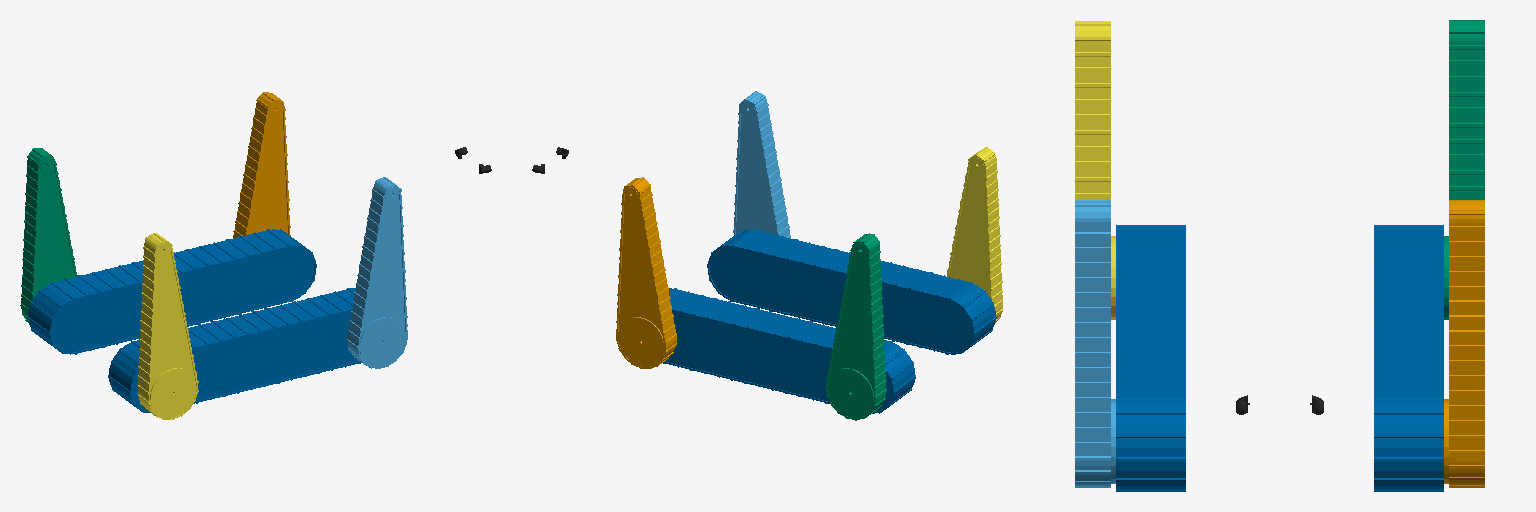
The robot description file, URDF, robot "iai_donkey":
<?xml version="1.0" ?>
<!-- =================================================================================== -->
<!-- |    This document was autogenerated by xacro from donkey.gazebo.urdf.xacro       | -->
<!-- |    EDITING THIS FILE BY HAND IS NOT RECOMMENDED                                 | -->
<!-- =================================================================================== -->
<robot name="iai_donkey" xmlns:xacro="http://ros.org/wiki/xacro">
  <link name="chains_loose_front_left">
    <visual>
      <geometry>
        <mesh filename="package://iai_sherpa_donkey/meshes/Loose_Wheel.dae"/>
      </geometry>
    </visual>
    <collision>
      <geometry>
        <mesh filename="package://iai_sherpa_donkey/meshes/Loose_Wheel_Col.dae"/>
      </geometry>
    </collision>
    <inertial>
      <origin rpy="0 0 0" xyz="0 0 0"/>
      <mass value="0.5"/>
      <inertia ixx="0.0001" ixy="0.0" ixz="0.0" iyy="0.0001" iyz="0.0" izz="0.0001"/>
    </inertial>
  </link>
  <joint name="chains_joint_front_left" type="revolute">
    <parent link="base_link"/>
    <child link="chains_loose_front_left"/>
    <origin rpy="3.14159393311 0 0" xyz="0.696425437927 0.503306388855 -0.26314997673"/>
    <limit effort="-1" lower="1." upper="2." velocity="-1"/>
    <axis xyz="0 1 0"/>
  </joint>
  <transmission name="chain_trans_front_left">
    <type>position_controllers/JointTrajectoryController</type>
    <joint name="chains_joint_front_left">
      <hardwareInterface>PositionJointInterface</hardwareInterface>
    </joint>
    <actuator name="chain_motor_front_left">
      <hardwareInterface>PositionJointInterface</hardwareInterface>
      <mechanicalReduction>10</mechanicalReduction>
    </actuator>
  </transmission>
  <link name="chains_loose_front_right">
    <visual>
      <geometry>
        <mesh filename="package://iai_sherpa_donkey/meshes/Loose_Wheel.dae"/>
      </geometry>
    </visual>
    <collision>
      <geometry>
        <mesh filename="package://iai_sherpa_donkey/meshes/Loose_Wheel_Col.dae"/>
      </geometry>
    </collision>
    <inertial>
      <origin rpy="0 0 0" xyz="0 0 0"/>
      <mass value="0.5"/>
      <inertia ixx="0.0001" ixy="0.0" ixz="0.0" iyy="0.0001" iyz="0.0" izz="0.0001"/>
    </inertial>
  </link>
  <joint name="chains_joint_front_right" type="revolute">
    <parent link="base_link"/>
    <child link="chains_loose_front_right"/>
    <origin rpy="0.0 0.0 0.0" xyz="0.696425437927 -0.503306388855 -0.26314997673"/>
    <limit effort="-1" lower="1." upper="2." velocity="-1"/>
    <axis xyz="0 -1 0"/>
  </joint>
  <transmission name="chain_trans_front_right">
    <type>position_controllers/JointTrajectoryController</type>
    <joint name="chains_joint_front_right">
      <hardwareInterface>PositionJointInterface</hardwareInterface>
    </joint>
    <actuator name="chain_motor_front_right">
      <hardwareInterface>PositionJointInterface</hardwareInterface>
      <mechanicalReduction>10</mechanicalReduction>
    </actuator>
  </transmission>
  <link name="chains_loose_back_left">
    <visual>
      <geometry>
        <mesh filename="package://iai_sherpa_donkey/meshes/Loose_Wheel.dae"/>
      </geometry>
    </visual>
    <collision>
      <geometry>
        <mesh filename="package://iai_sherpa_donkey/meshes/Loose_Wheel_Col.dae"/>
      </geometry>
    </collision>
    <inertial>
      <origin rpy="0 0 0" xyz="0 0 0"/>
      <mass value="0.5"/>
      <inertia ixx="0.0001" ixy="0.0" ixz="0.0" iyy="0.0001" iyz="0.0" izz="0.0001"/>
    </inertial>
  </link>
  <joint name="chains_joint_back_left" type="revolute">
    <parent link="base_link"/>
    <child link="chains_loose_back_left"/>
    <origin rpy="3.14159393311 3.14159393311 0.0" xyz="-0.348821163177 0.503306388855 -0.26314997673"/>
    <limit effort="-1" lower="1." upper="2." velocity="-1"/>
    <axis xyz="0 -1 0"/>
  </joint>
  <transmission name="chain_trans_back_left">
    <type>position_controllers/JointTrajectoryController</type>
    <joint name="chains_joint_back_left">
      <hardwareInterface>PositionJointInterface</hardwareInterface>
    </joint>
    <actuator name="chain_motor_back_left">
      <hardwareInterface>PositionJointInterface</hardwareInterface>
      <mechanicalReduction>10</mechanicalReduction>
    </actuator>
  </transmission>
  <link name="chains_loose_back_right">
    <visual>
      <geometry>
        <mesh filename="package://iai_sherpa_donkey/meshes/Loose_Wheel.dae"/>
      </geometry>
    </visual>
    <collision>
      <geometry>
        <mesh filename="package://iai_sherpa_donkey/meshes/Loose_Wheel_Col.dae"/>
      </geometry>
    </collision>
    <inertial>
      <origin rpy="0 0 0" xyz="0 0 0"/>
      <mass value="0.5"/>
      <inertia ixx="0.0001" ixy="0.0" ixz="0.0" iyy="0.0001" iyz="0.0" izz="0.0001"/>
    </inertial>
  </link>
  <joint name="chains_joint_back_right" type="revolute">
    <parent link="base_link"/>
    <child link="chains_loose_back_right"/>
    <origin rpy="0.0 3.14159393311 0.0" xyz="-0.348821163177 -0.503306388855 -0.26314997673"/>
    <limit effort="-1" lower="1." upper="2." velocity="-1"/>
    <axis xyz="0 1 0"/>
  </joint>
  <transmission name="chain_trans_back_right">
    <type>position_controllers/JointTrajectoryController</type>
    <joint name="chains_joint_back_right">
      <hardwareInterface>PositionJointInterface</hardwareInterface>
    </joint>
    <actuator name="chain_motor_back_right">
      <hardwareInterface>PositionJointInterface</hardwareInterface>
      <mechanicalReduction>10</mechanicalReduction>
    </actuator>
  </transmission>
  <link name="base_link">
    <!--MAIN_BODY-->
    <visual>
      <origin rpy="0 0 0" xyz="0 0 0"/>
      <geometry>
        <mesh filename="package://iai_sherpa_donkey/meshes/Body_Full.dae"/>
      </geometry>
    </visual>
    <collision>
      <origin rpy="0 0 0" xyz="0 0 0"/>
      <geometry>
        <mesh filename="package://iai_sherpa_donkey/meshes/body_full_col.stl"/>
      </geometry>
    </collision>
    <!--LEFT_CHAINS-->
    <visual>
      <origin rpy="0 0 0" xyz="0.16442573070526123 0.3477001190185547 -0.2631499767303467"/>
      <geometry>
        <mesh filename="package://iai_sherpa_donkey/meshes/Main_Wheel.dae"/>
      </geometry>
    </visual>
    <visual>
      <origin rpy="0 0 0" xyz="0.16442573070526123 -0.3477001190185547 -0.2631499767303467"/>
      <geometry>
        <mesh filename="package://iai_sherpa_donkey/meshes/Main_Wheel.dae"/>
      </geometry>
    </visual>
    <!--
	
	
        <visual>
        <origin xyz="0.16442573070526123 0.3477001190185547 -0.2631499767303467" rpy="0 0 0" />
        <geometry>
            <mesh filename="package://iai_sherpa_donkey/meshes/Main_Wheel.dae"/>
        </geometry>
        </visual>
        
	<visual>
        <origin xyz="0.16442573070526123 -0.3477001190185547 -0.2631499767303467" rpy="0 0 0" />
        <geometry>
            <mesh filename="package://iai_sherpa_donkey/meshes/Main_Wheel.dae"/>
        </geometry>
        </visual>
        <collision>
        <origin xyz="0.16442573070526123 0.3477001190185547 -0.2631499767303467" rpy="0 0 0" />
        <geometry>
            <mesh filename="package://iai_sherpa_donkey/meshes/Main_Wheel.dae"/>
        </geometry>
        </collision>
        <collision>
        <origin xyz="0.16442573070526123 -0.3477001190185547 -0.2631499767303467" rpy="0 0 0" />
        <geometry>
            <mesh filename="package://iai_sherpa_donkey/meshes/Main_Wheel.dae"/>
        </geometry>
        </collision>
	-->
    <!--
        <collision>
        <geometry>
            <mesh filename="package://iai_sherpa_donkey/meshes/Full_Body_Col.dae"/>
        </geometry>
            <origin xyz="0.004205834120512009 -8.124277428578353e-08 0.4054466485977173" rpy="0 0 0" />
        </collision>
	-->
    <inertial>
      <!--       
        <origin xyz="0.0 0 0.15" rpy="0 0 0"/>
	  
	  <origin xyz="0.5 0 -0.25" rpy="0 0 0"/>
	-->
      <origin rpy="0 0 0" xyz="0.0 0 -0.35"/>
      <mass value="100"/>
      <inertia ixx="0.75" ixy="0.0" ixz="0.0" iyy="0.75" iyz="0.0" izz="0.75"/>
    </inertial>
  </link>
  <link name="base_footprint">
    <!-- visual -->
    <!-- collision -->
    <!-- inertial -->
    <inertial>
      <origin rpy="0 0 0" xyz="0 0 0.03"/>
      <!-- FIXME starting higher to avoid collision-->
      <mass value="0.1"/>
      <!--
	-->
      <inertia ixx="0.01" ixy="0.0" ixz="0.0" iyy="0.01" iyz="0.0" izz="0.01"/>
    </inertial>
  </link>
  <joint name="base_footprint_base_link_joint" type="fixed">
    <parent link="base_footprint"/>
    <child link="base_link"/>
    <origin rpy="0 0 0" xyz="0 0 0.4054466485977173"/>
  </joint>
  <link name="box_dock_link">
    </link>
  <joint name="box_dock_joint" type="fixed">
    <parent link="base_link"/>
    <child link="box_dock_link"/>
    <origin rpy="0.0 0.0 3.14159393311" xyz="0.08 0.0 0.135"/>
  </joint>
  <link name="cam_left">
    <!-- visual -->
    <visual>
      <geometry>
        <mesh filename="package://iai_sherpa_donkey/meshes/cam_vis.dae"/>
      </geometry>
    </visual>
    <!-- collision -->
    <!-- inertial -->
    <inertial>
      <origin rpy="0 0 0" xyz="0 0 0"/>
      <mass value="0.01"/>
      <inertia ixx="0.000001" ixy="0.0" ixz="0.0" iyy="0.000001" iyz="0.0" izz="0.000001"/>
    </inertial>
  </link>
  <joint name="base_cam_left_joint" type="revolute">
    <parent link="base_link"/>
    <child link="cam_left"/>
    <origin rpy="3.141592654 0 0" xyz="1.465 0.1 0.2"/>
    <axis xyz="1 0 0"/>
    <limit effort="0" lower="0" upper="0" velocity="0"/>
  </joint>
  <link name="cam_right">
    <!-- visual -->
    <visual>
      <geometry>
        <mesh filename="package://iai_sherpa_donkey/meshes/cam_vis.dae"/>
      </geometry>
    </visual>
    <!-- collision -->
    <!-- inertial -->
    <inertial>
      <origin rpy="0 0 0" xyz="0 0 0"/>
      <mass value="0.01"/>
      <inertia ixx="0.000001" ixy="0.0" ixz="0.0" iyy="0.000001" iyz="0.0" izz="0.000001"/>
    </inertial>
  </link>
  <joint name="base_cam_right_joint" type="revolute">
    <parent link="base_link"/>
    <child link="cam_right"/>
    <origin rpy="0 0 0" xyz="1.465 -0.1 0.2"/>
    <axis xyz="1 0 0"/>
    <limit effort="0" lower="0" upper="0" velocity="0"/>
  </joint>
  <gazebo reference="cam_left">
    <sensor name="cam_left_camera" type="camera">
      <pose>0 0 0 3.141592654 0 0 </pose>
      <update_rate>30.0</update_rate>
      <camera name="cam_left_cam">
        <horizontal_fov>1.3962634</horizontal_fov>
        <image>
          <width>1024</width>
          <height>768</height>
          <format>R8G8B8</format>
        </image>
        <clip>
          <near>0.25</near>
          <far>1000</far>
        </clip>
        <noise>
          <type>gaussian</type>
          <!-- Noise is sampled independently per pixel on each frame.  
               That pixel's noise value is added to each of its color
               channels, which at that point lie in the range [0,1]. -->
          <mean>0.0</mean>
          <stddev>0.007</stddev>
        </noise>
      </camera>
      <plugin filename="libgazebo_ros_camera.so" name="camera_controller">
        <alwaysOn>true</alwaysOn>
        <updateRate>0.0</updateRate>
        <cameraName>cam_left_camera</cameraName>
        <imageTopicName>image_raw</imageTopicName>
        <cameraInfoTopicName>camera_info</cameraInfoTopicName>
        <frameName>cam_left</frameName>
        <hackBaseline>0.07</hackBaseline>
        <distortionK1>0.0</distortionK1>
        <distortionK2>0.0</distortionK2>
        <distortionK3>0.0</distortionK3>
        <distortionT1>0.0</distortionT1>
        <distortionT2>0.0</distortionT2>
      </plugin>
    </sensor>
  </gazebo>
  <gazebo reference="cam_right">
    <sensor name="cam_right_camera" type="camera">
      <pose>0 0 0 3.141592654 0 0 </pose>
      <update_rate>30.0</update_rate>
      <camera name="cam_right_cam">
        <horizontal_fov>1.3962634</horizontal_fov>
        <image>
          <width>1024</width>
          <height>768</height>
          <format>R8G8B8</format>
        </image>
        <clip>
          <near>0.25</near>
          <far>1000</far>
        </clip>
        <noise>
          <type>gaussian</type>
          <!-- Noise is sampled independently per pixel on each frame.  
               That pixel's noise value is added to each of its color
               channels, which at that point lie in the range [0,1]. -->
          <mean>0.0</mean>
          <stddev>0.007</stddev>
        </noise>
      </camera>
      <plugin filename="libgazebo_ros_camera.so" name="camera_controller">
        <alwaysOn>true</alwaysOn>
        <updateRate>0.0</updateRate>
        <cameraName>cam_right_camera</cameraName>
        <imageTopicName>image_raw</imageTopicName>
        <cameraInfoTopicName>camera_info</cameraInfoTopicName>
        <frameName>cam_right</frameName>
        <hackBaseline>0.07</hackBaseline>
        <distortionK1>0.0</distortionK1>
        <distortionK2>0.0</distortionK2>
        <distortionK3>0.0</distortionK3>
        <distortionT1>0.0</distortionT1>
        <distortionT2>0.0</distortionT2>
      </plugin>
    </sensor>
  </gazebo>
  <gazebo>
    <plugin filename="libgazebo_ros_control.so" name="donkey_ros_control">
      <controlPeriod>0.001</controlPeriod>
      <robotParam>robot_description</robotParam>
      <!--
            <robotNamespace>$(arg prefix)</robotNamespace>
            <robotSimType>sherpa_donkey_control/SherpaDonkeyHWSim</robotSimType>
	    
	    -->
    </plugin>
  </gazebo>
  <gazebo>
    <plugin filename="libgazebo_ros_planar_move.so" name="object_controller">
      <commandTopic>cmd_vel</commandTopic>
      <odometryTopic>world</odometryTopic>
      <odometryFrame>world</odometryFrame>
      <odometryRate>10.0</odometryRate>
      <robotBaseFrame>base_footprint</robotBaseFrame>
    </plugin>
  </gazebo>
</robot>

--- What the picture shows (computed from the rendered views, not written in the file) ---
Views: 3 orthographic renders of the robot side by side, from view 1: azimuth 30°, elevation 25°; view 2: azimuth 150°, elevation 25°; view 3: azimuth 270°, elevation 25°.
Robot: iai_donkey — 9 links, 8 joints (6 revolute, 2 fixed); root link base_footprint; default pose: joints at zero except 4 at the middle of their limits (chains_joint_front_left = 1.5, chains_joint_front_right = 1.5, chains_joint_back_left = 1.5, chains_joint_back_right = 1.5).
Visible links, largest first — view 1: base_link, chains_loose_front_right, chains_loose_back_right, chains_loose_back_left, chains_loose_front_left; view 2: base_link, chains_loose_front_left, chains_loose_back_left, chains_loose_back_right, chains_loose_front_right; view 3: base_link, chains_loose_front_left, chains_loose_front_right, chains_loose_back_left, chains_loose_back_right.
Link boxes in pixels (<box>): base_link: <box>27,229,360,412</box>; chains_loose_front_right: <box>347,177,407,368</box>; chains_loose_back_right: <box>137,233,198,419</box>; chains_loose_back_left: <box>20,148,77,322</box>; chains_loose_front_left: <box>233,92,290,237</box>; base_link: <box>663,229,996,413</box>; chains_loose_front_left: <box>616,177,676,368</box>; chains_loose_back_left: <box>825,233,886,420</box>; chains_loose_back_right: <box>947,147,1002,323</box>; chains_loose_front_right: <box>733,91,790,238</box>; base_link: <box>1116,225,1443,491</box>; chains_loose_front_left: <box>1444,200,1484,487</box>; chains_loose_front_right: <box>1075,200,1115,487</box>; chains_loose_back_left: <box>1444,20,1484,319</box>; chains_loose_back_right: <box>1075,21,1115,319</box>.
Bounding box of the posed robot: 1.99 × 1.1 × 0.8748 m (x, y, z).
8 mesh visuals loaded from 4 distinct referenced files (3 Collada DAE); not drawn: 1 (reference not matched to a file when rendering).